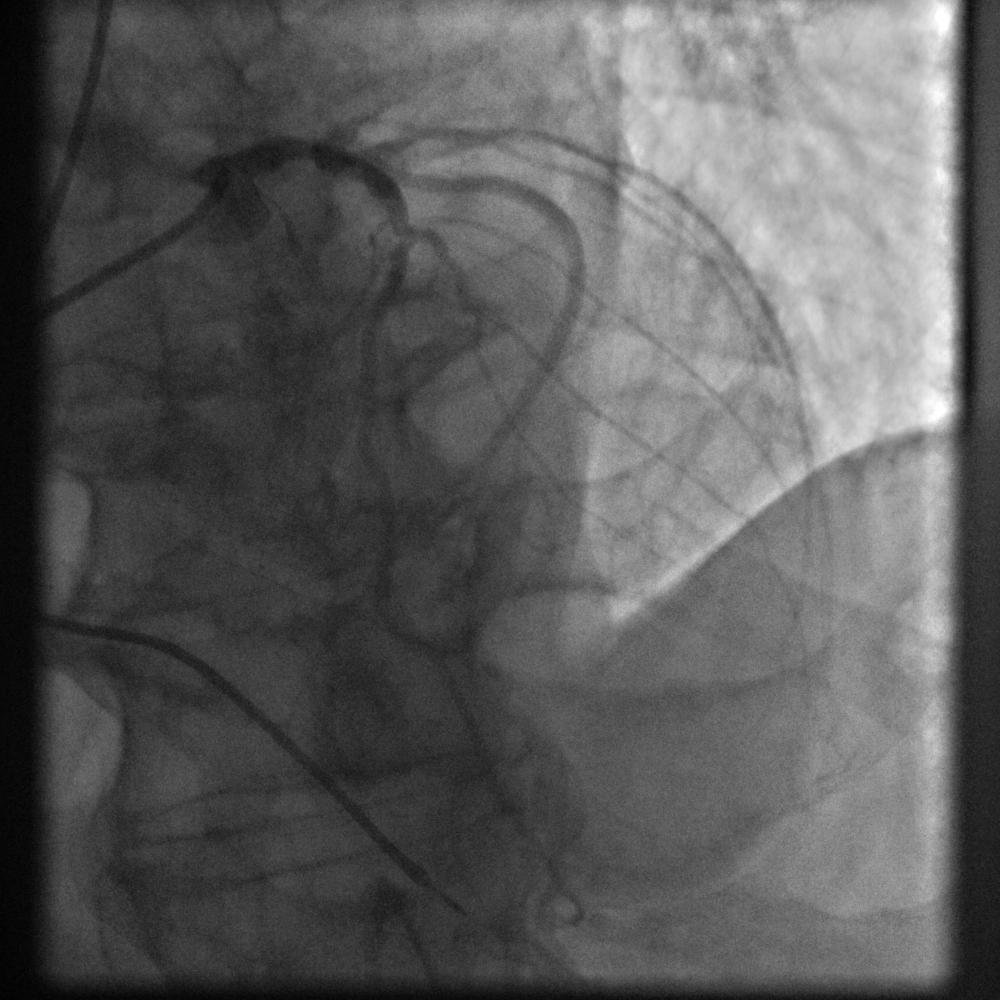Stenosis: (379, 204, 432, 270)
